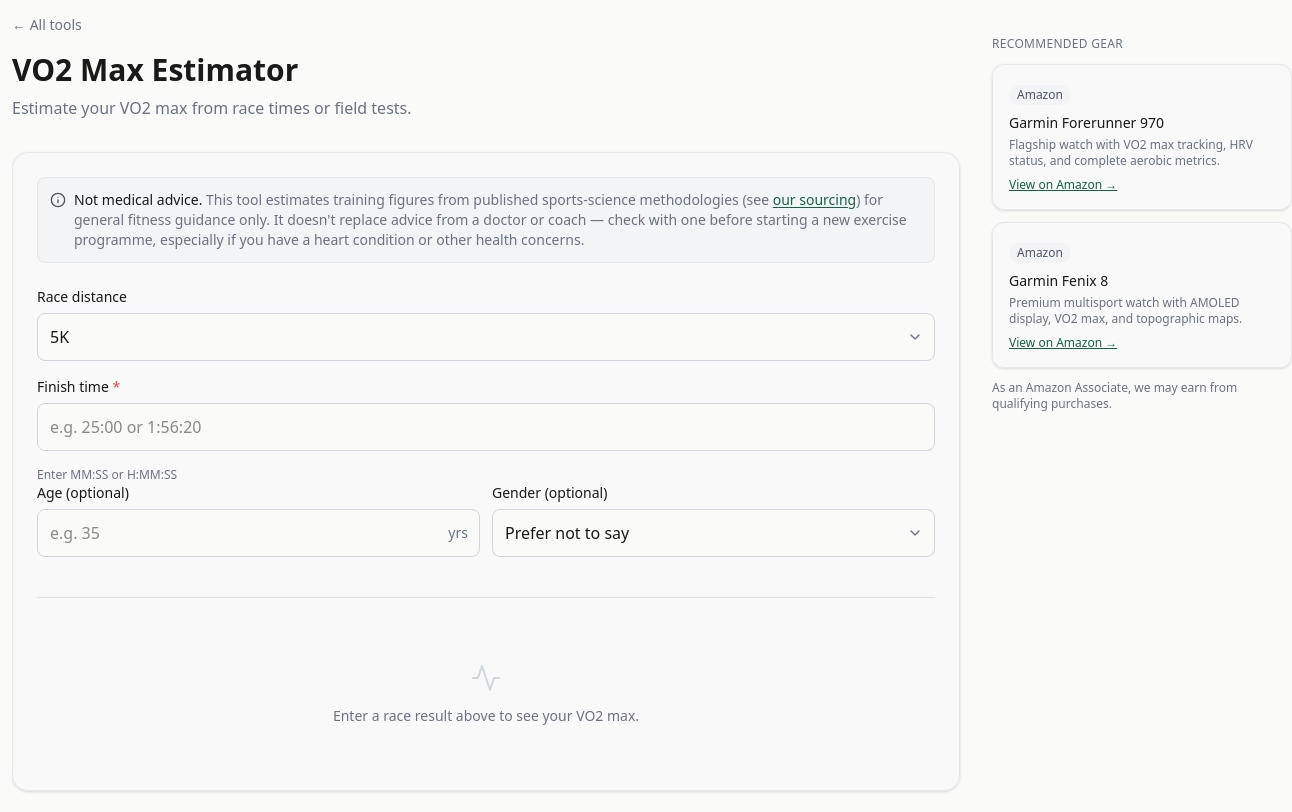
Scenario: Vo2max page › selecting Custom reveals distance input (AC3)
The width and height of the screenshot is (1292, 812).
Select "Custom (km)" in the dropdown labelled "Race distance" at (486, 337), box [37,313,935,361]
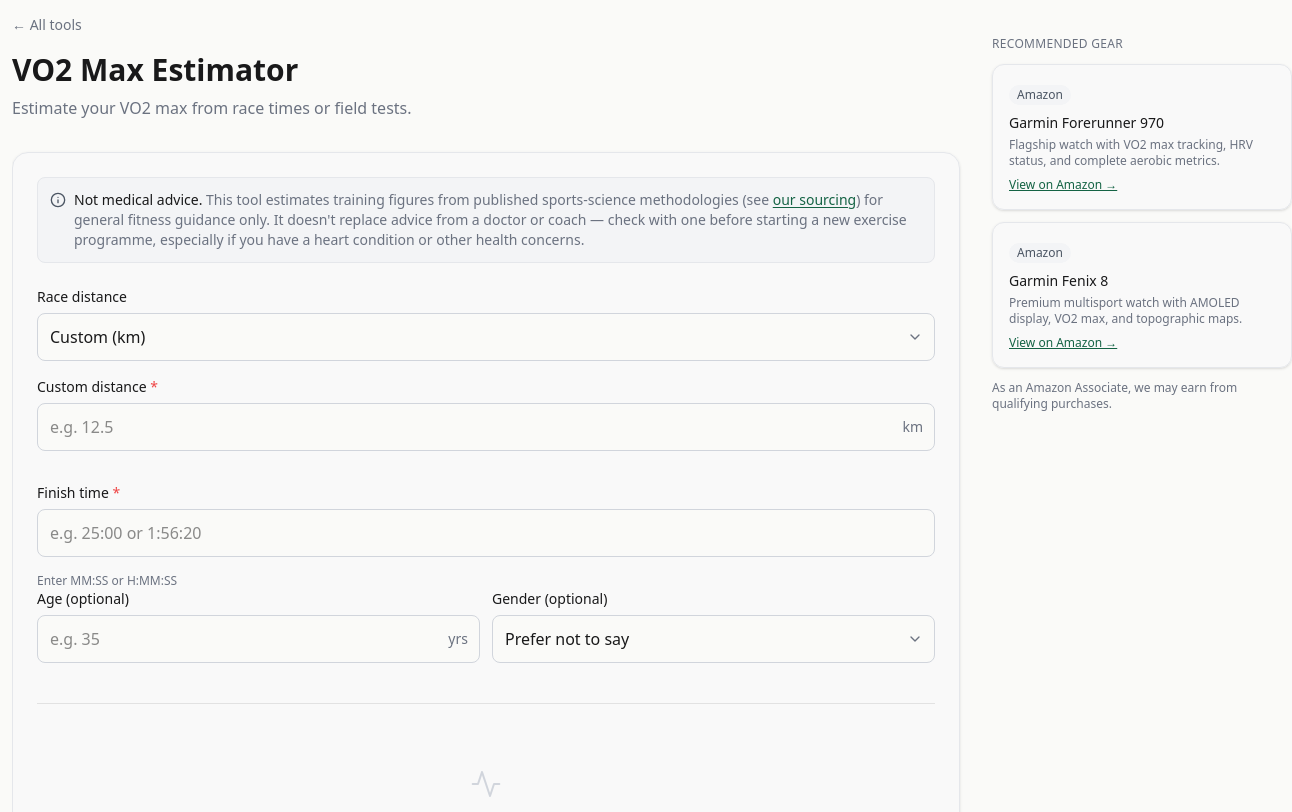
Expected: the field labelled "Custom distance *" is shown, [37,403,935,451]
